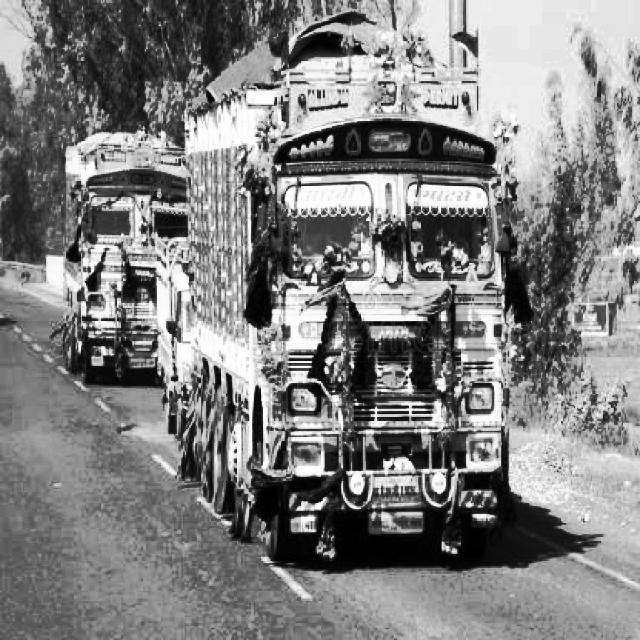HCV: (169, 68, 505, 544), (60, 140, 194, 390)
